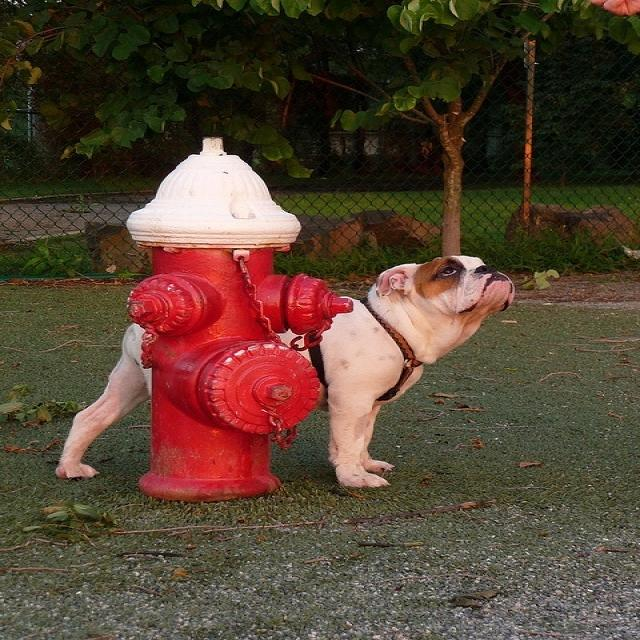fire_hydrant: (120, 110, 339, 551)
